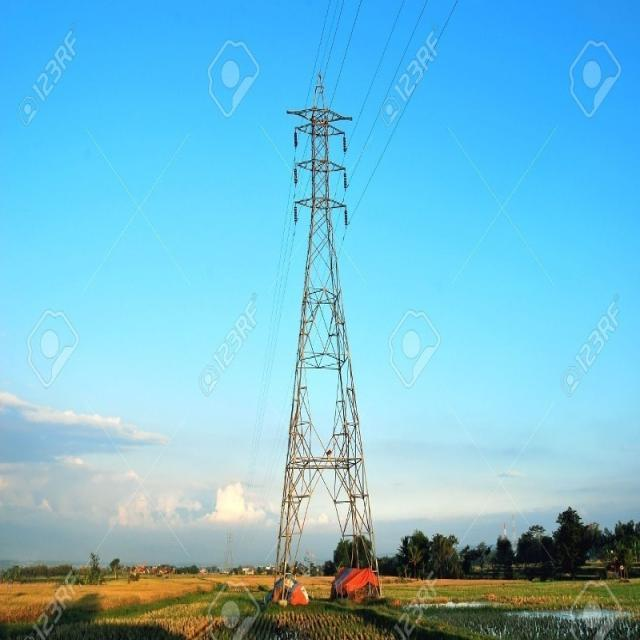non-critical vegetation: (274, 57, 378, 570)
